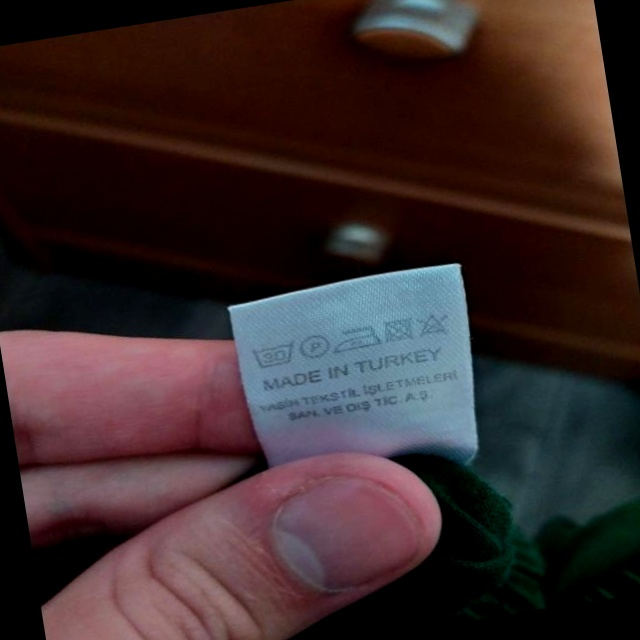30C: (249, 339, 299, 374)
DN_bleach: (414, 310, 454, 341)
DN_tumble_dry: (381, 315, 415, 345)
dry_clean_any_solvent_except_trichloroethylene: (299, 332, 333, 363)
iron_medium: (330, 321, 383, 358)
